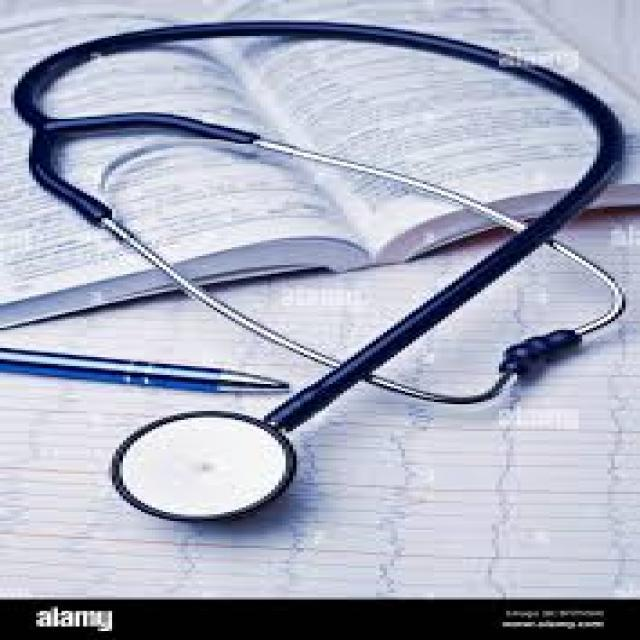stethoscope: (42, 40, 408, 544)
